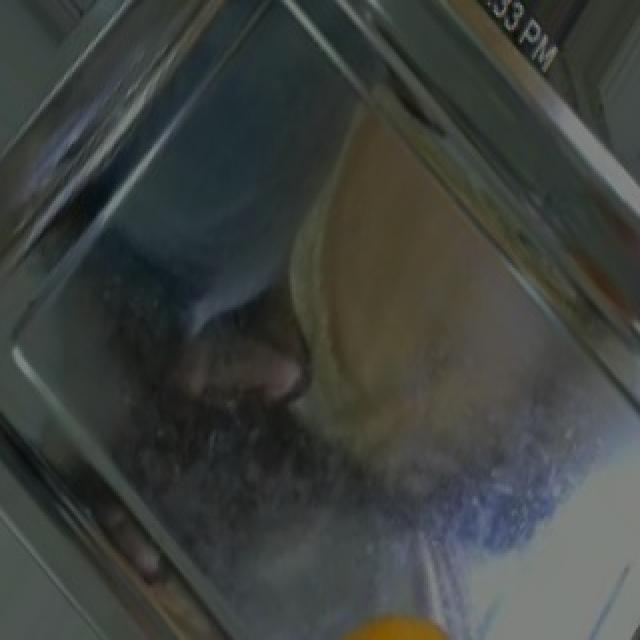Fruit: (308, 595, 488, 640)
